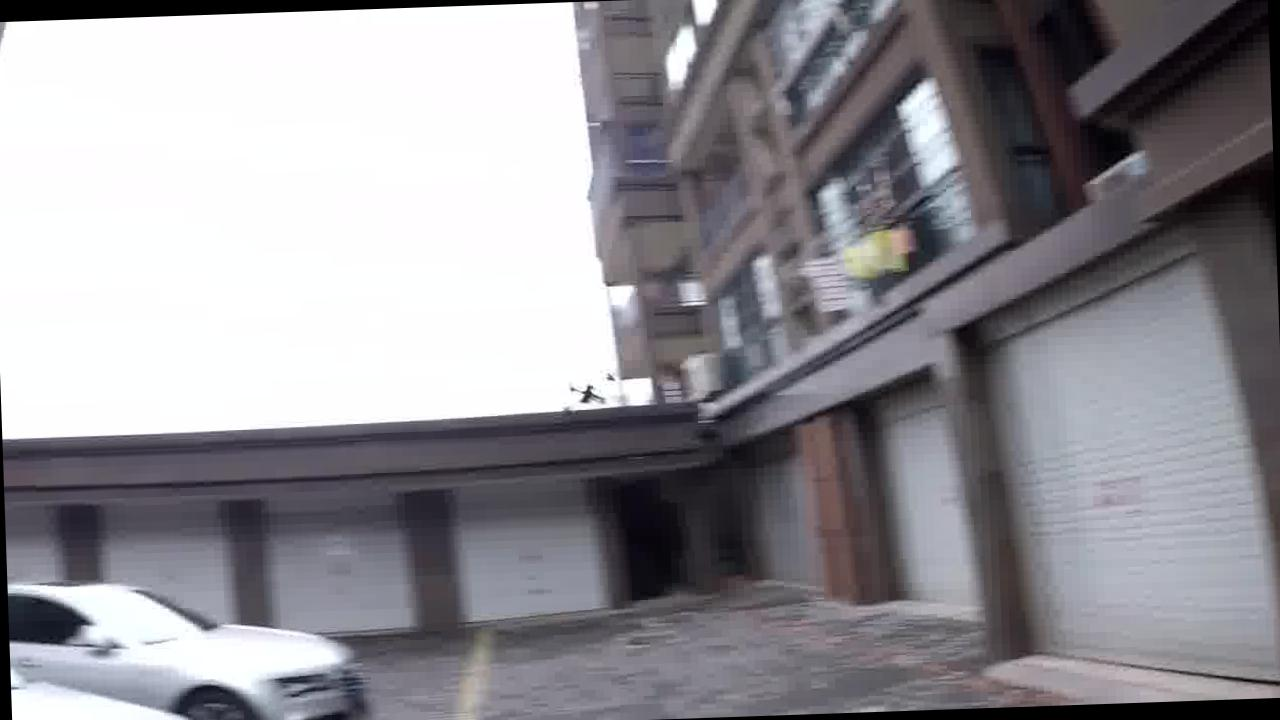drone: (535, 366, 630, 418)
